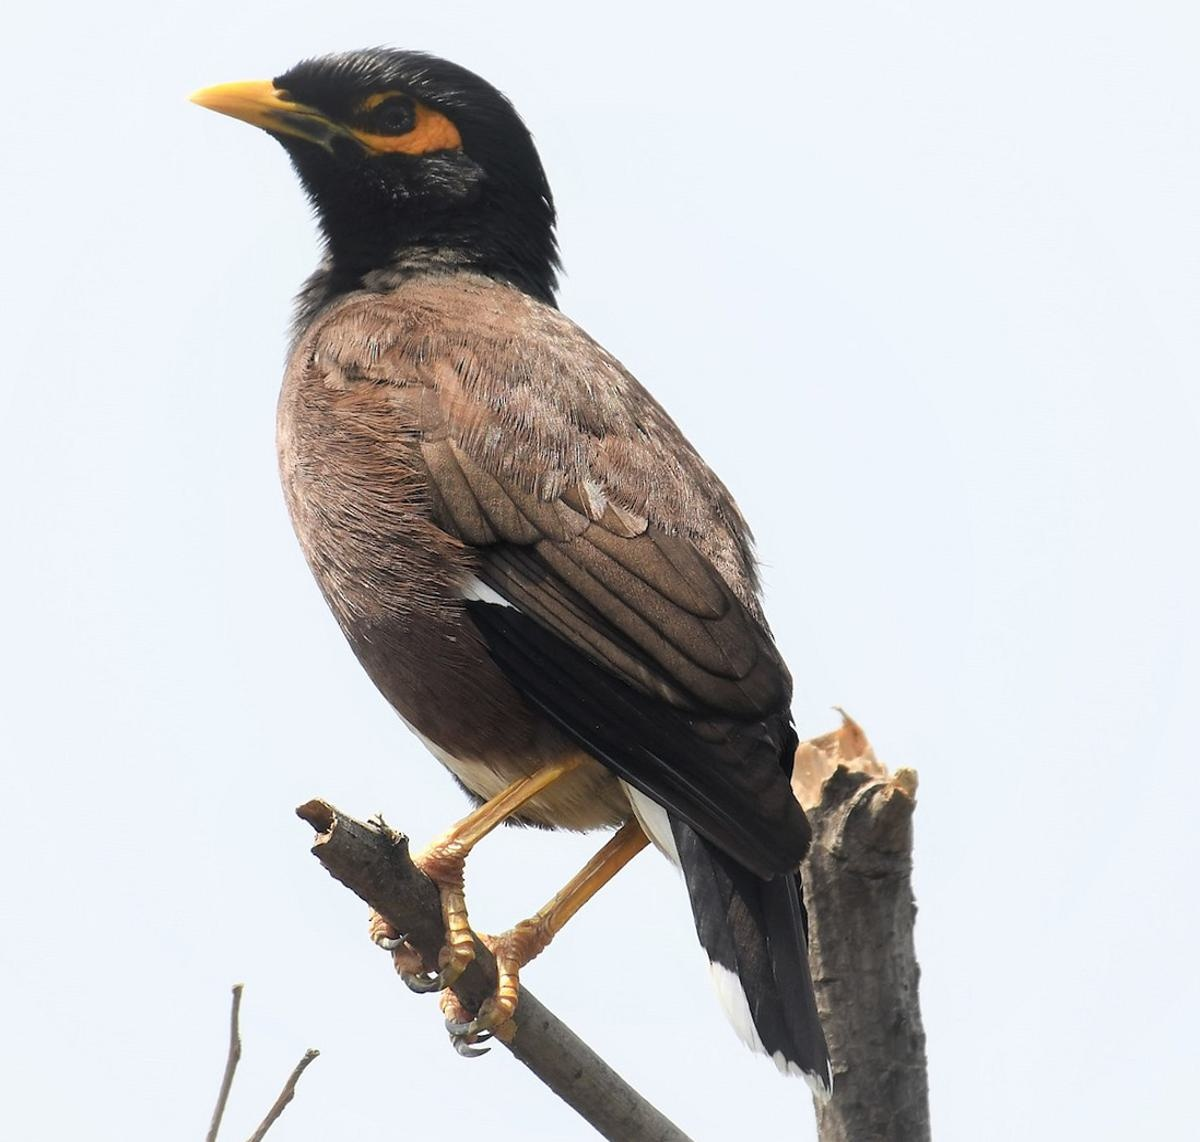myna: (130, 22, 883, 1111)
